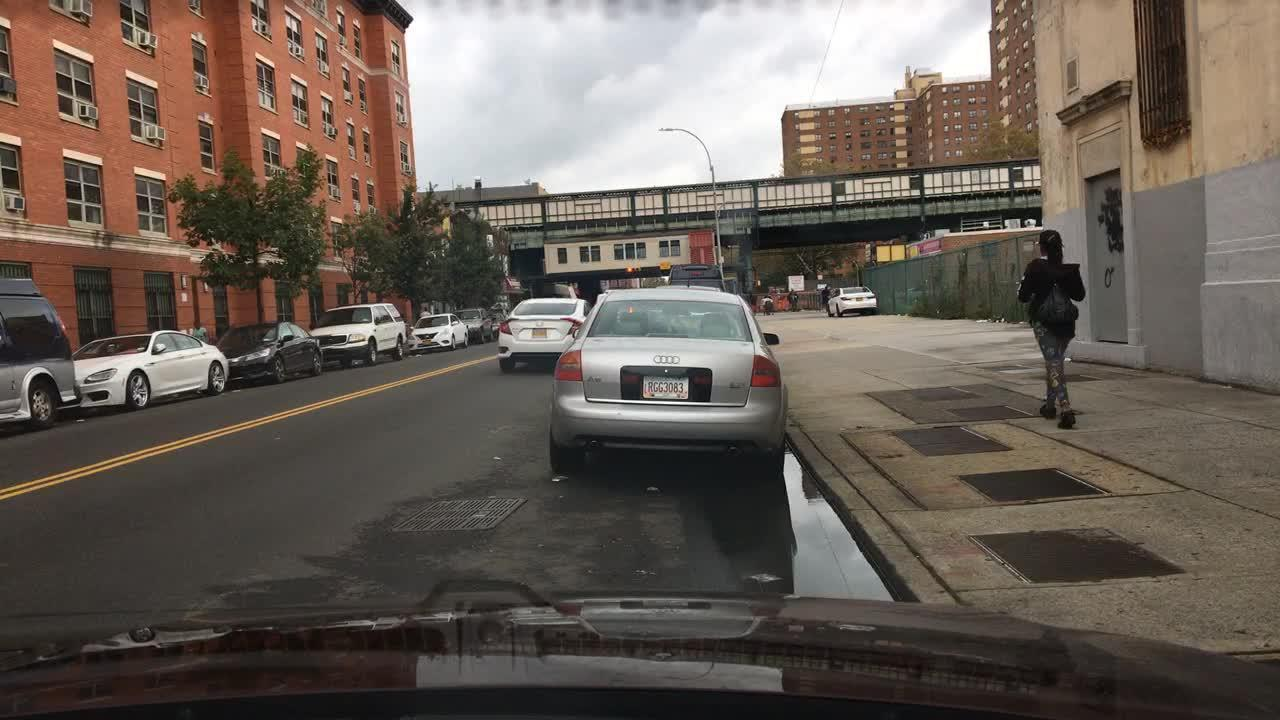Audi: (650, 352, 680, 368)
